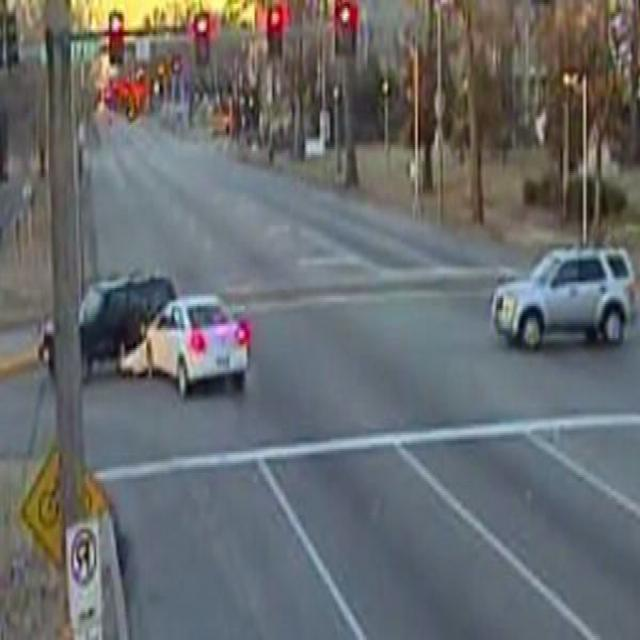accident: (37, 269, 253, 405)
